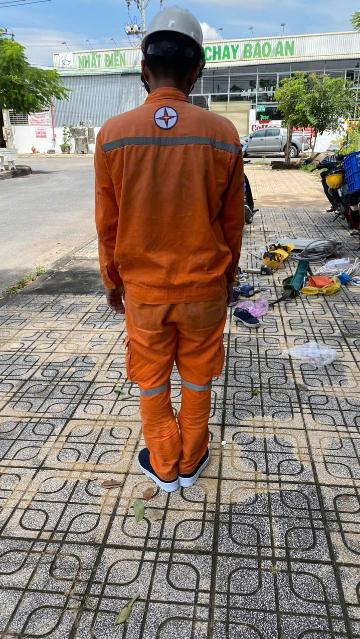helmet: (132, 2, 221, 73)
shoes: (167, 432, 217, 498), (135, 437, 180, 502), (224, 303, 268, 336)
